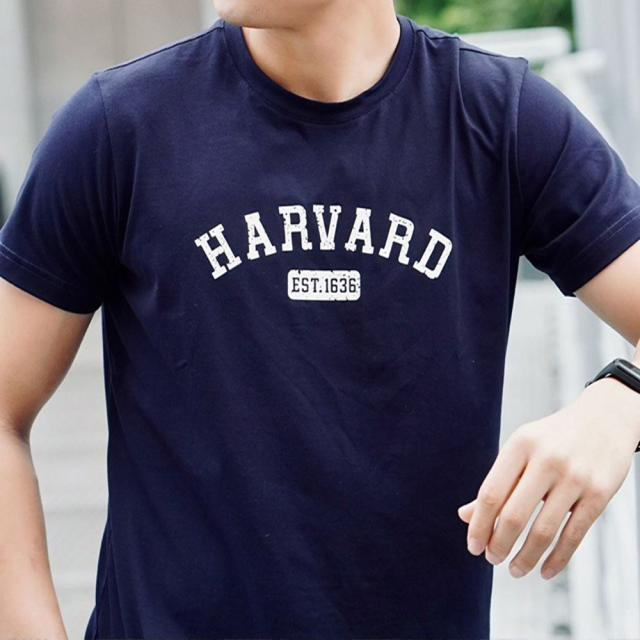Shirt: (0, 15, 633, 640)
